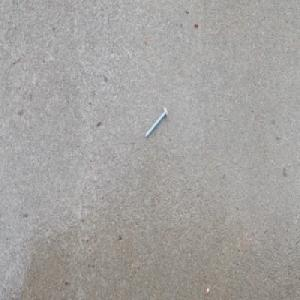Nail: (144, 106, 168, 138)
